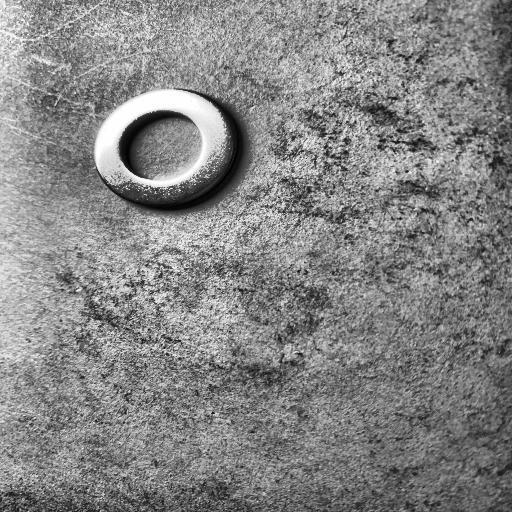Washer: (94, 89, 239, 208)
